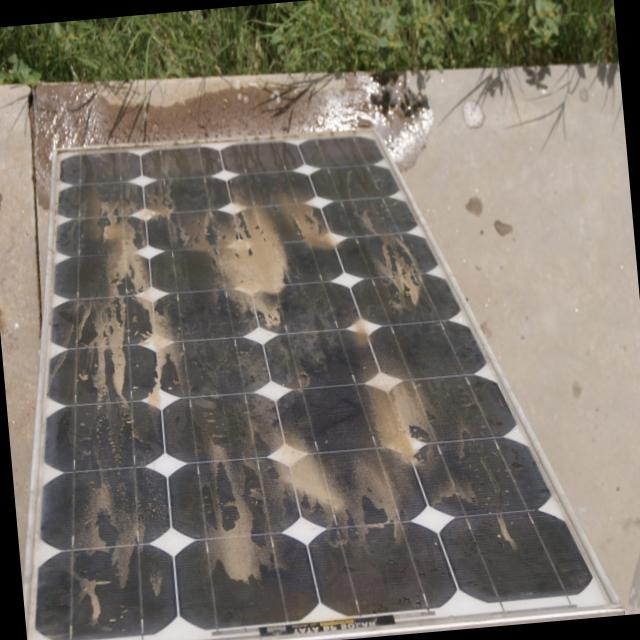faulty: (33, 132, 595, 640)
